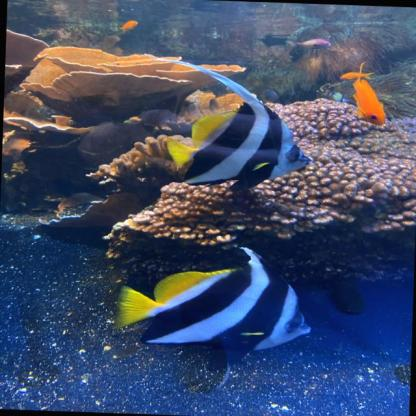fish: (115, 255, 312, 370), (167, 100, 315, 194), (351, 78, 387, 125)
